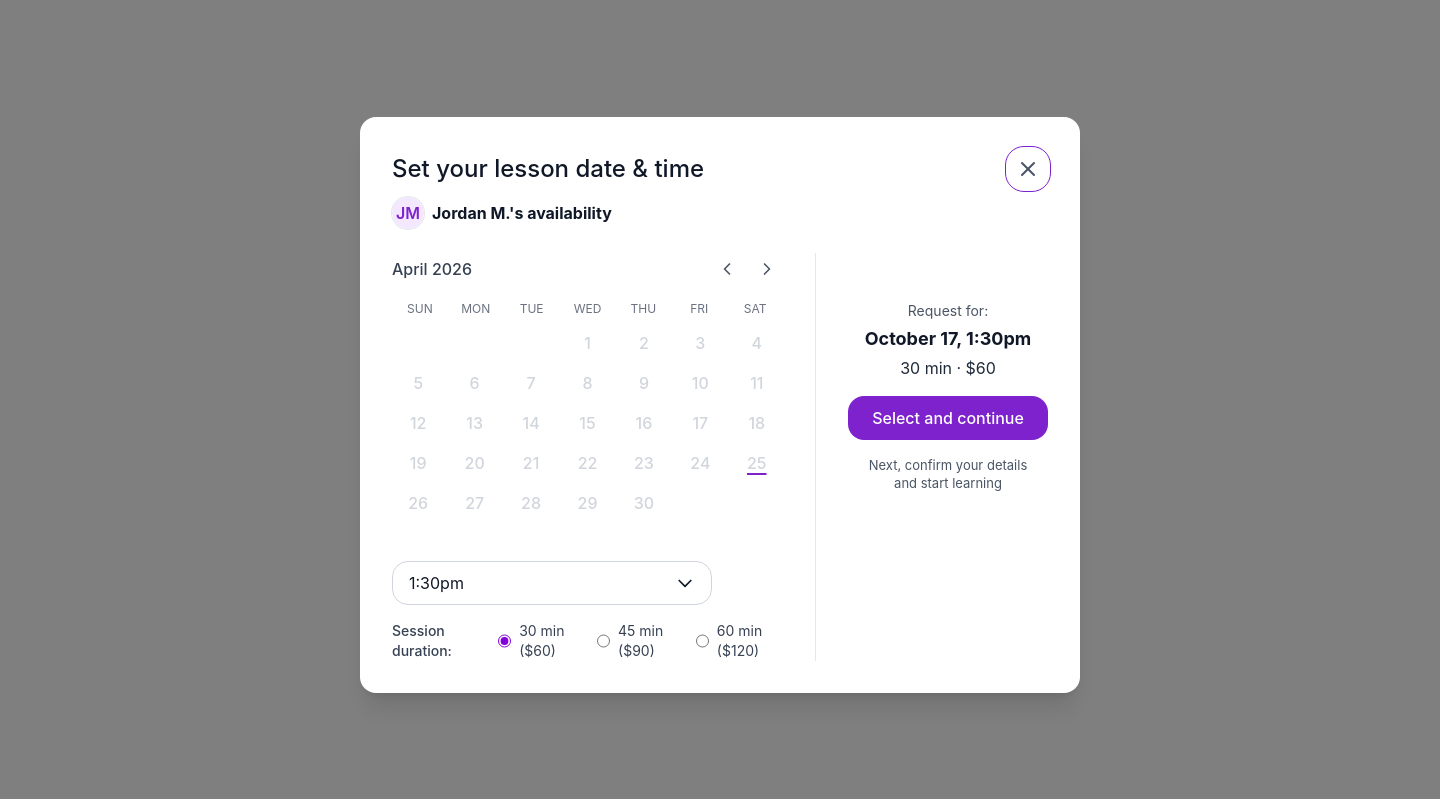
Test case: TimeSelectionModal duration changes › renders backend-provided half-hour start times
Click the button "1:30pm": [436, 583] box [392, 561, 712, 605]
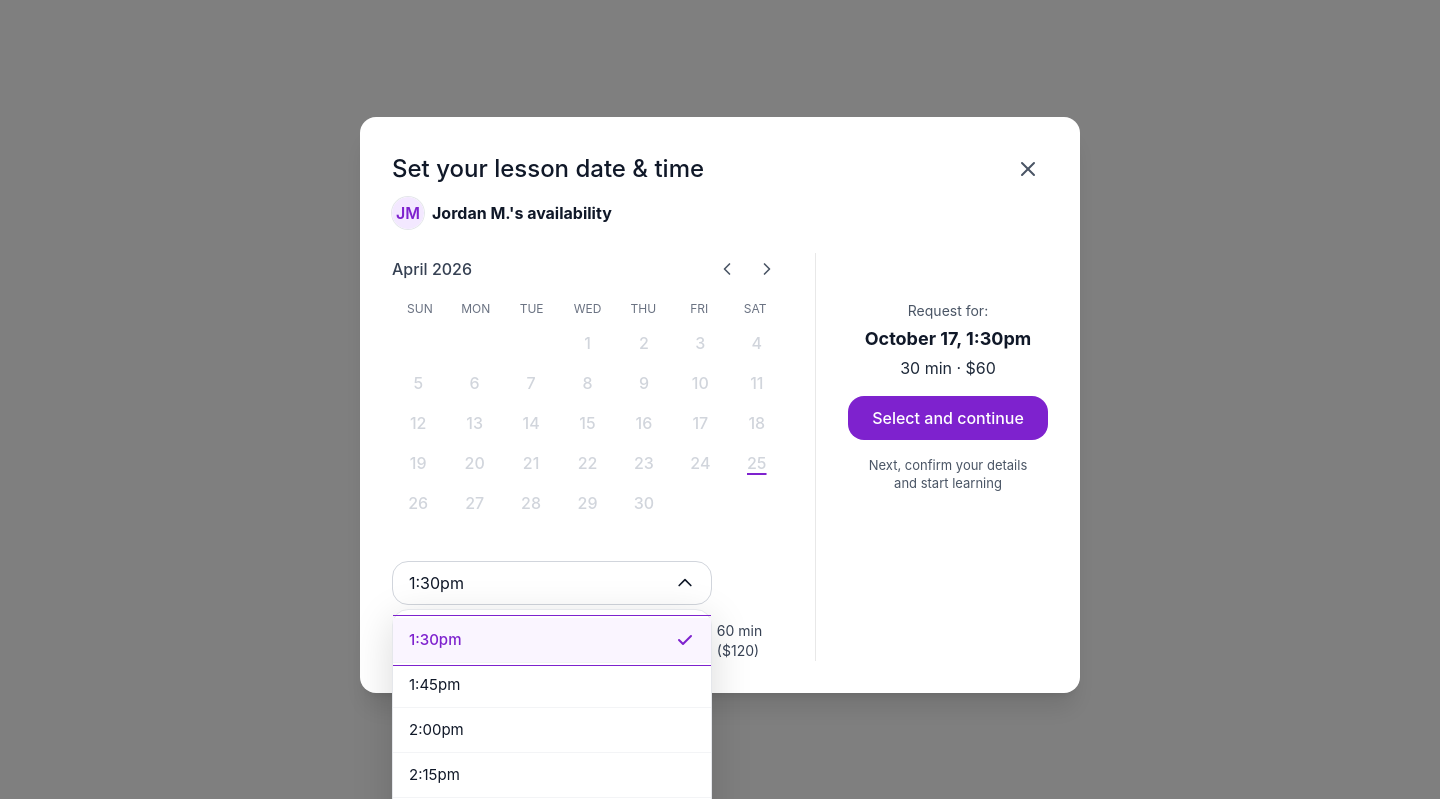
Result: the text "2:00pm" is shown at [409, 720, 464, 740]
